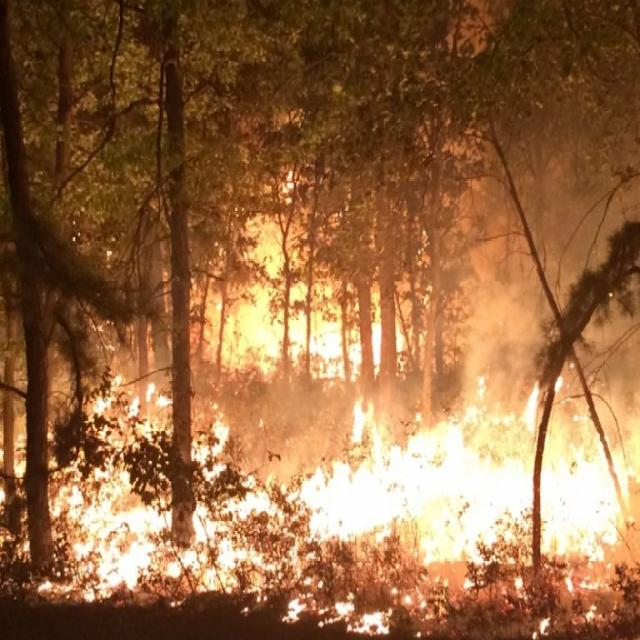Fire: (29, 371, 305, 606), (286, 394, 623, 562), (176, 210, 415, 381)
